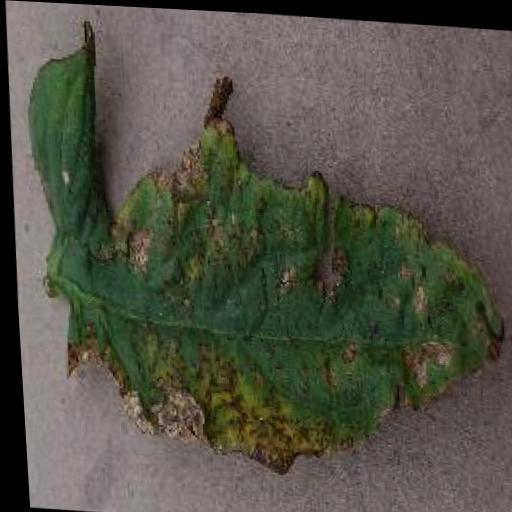Bacterial Spot: (10, 8, 512, 494)
